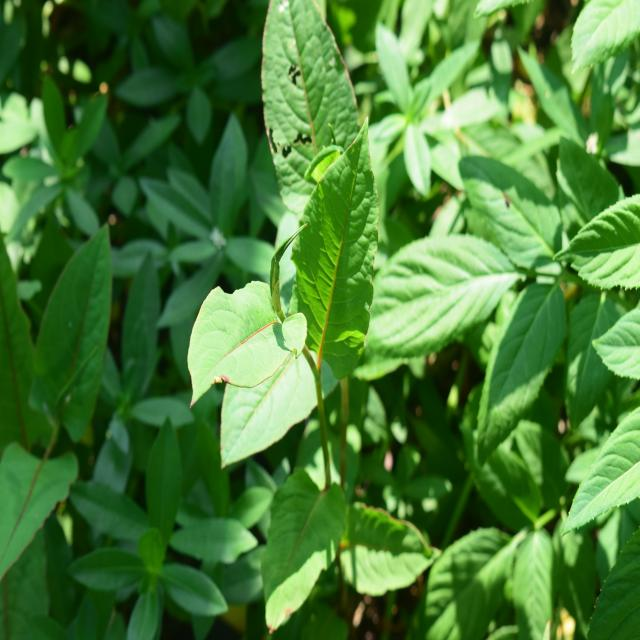Chinese_knotweed: (202, 0, 394, 460)
